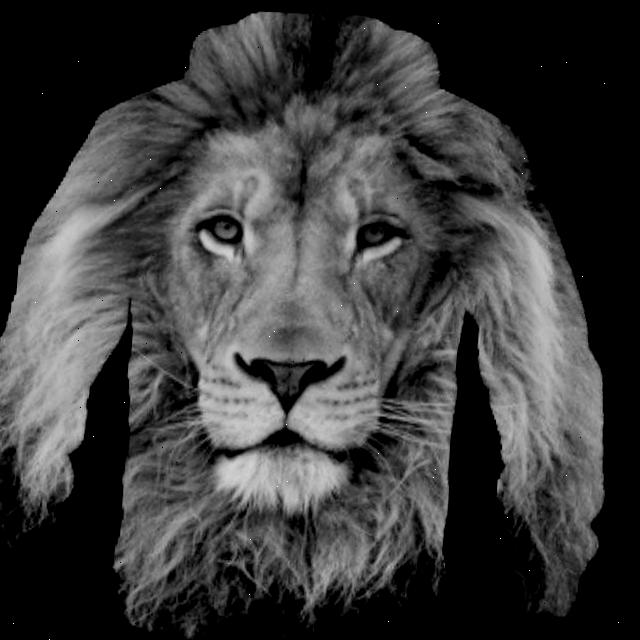Lion: (0, 27, 638, 587)
